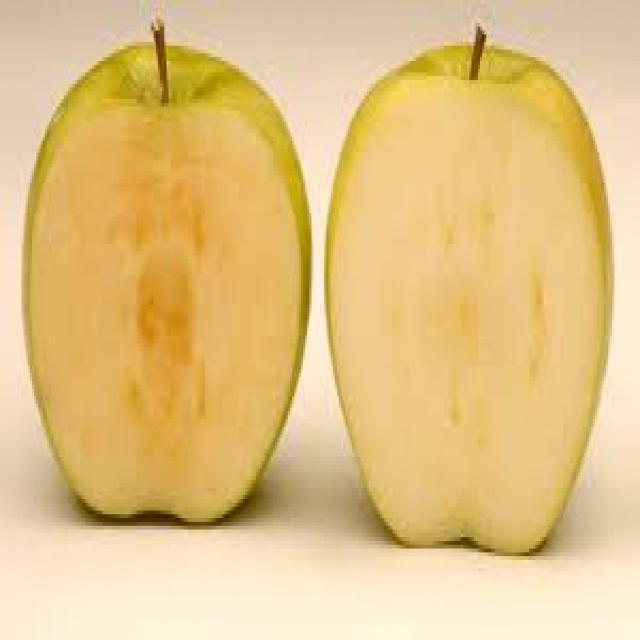Apple: (325, 42, 612, 555), (21, 38, 312, 525)
